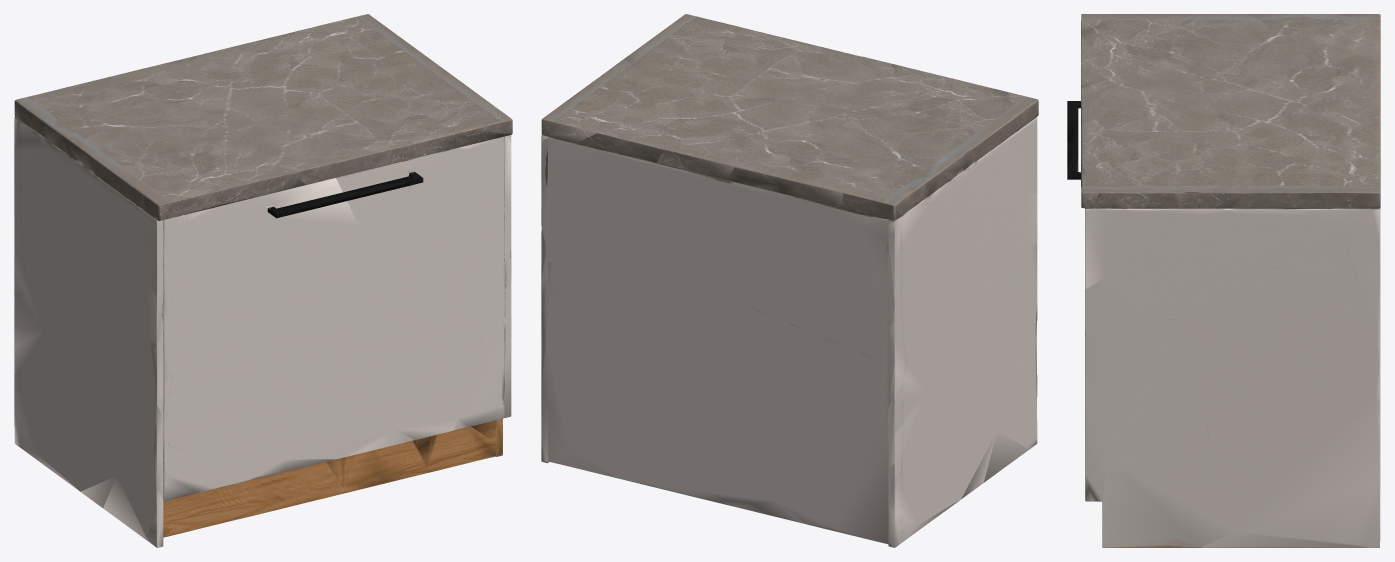
File: kitchen-base-cabinet.glb
3 views of the same model, side by side, from view 1: azimuth 30°, elevation 25°; view 2: azimuth 150°, elevation 25°; view 3: azimuth 270°, elevation 25° (orthographic). The views are drawn at different scales.
Visible parts, largest first — view 1: Mesh_0; view 2: Mesh_0; view 3: Mesh_0.
Part boxes in pixels (x1,y1,x2,y2): Mesh_0: (14,14,512,547); Mesh_0: (541,14,1038,547); Mesh_0: (1067,14,1380,547).
Size of the model in its own units: 0.971 by 0.9 by 0.7185.
Materials: 1 (1 with a texture image).
